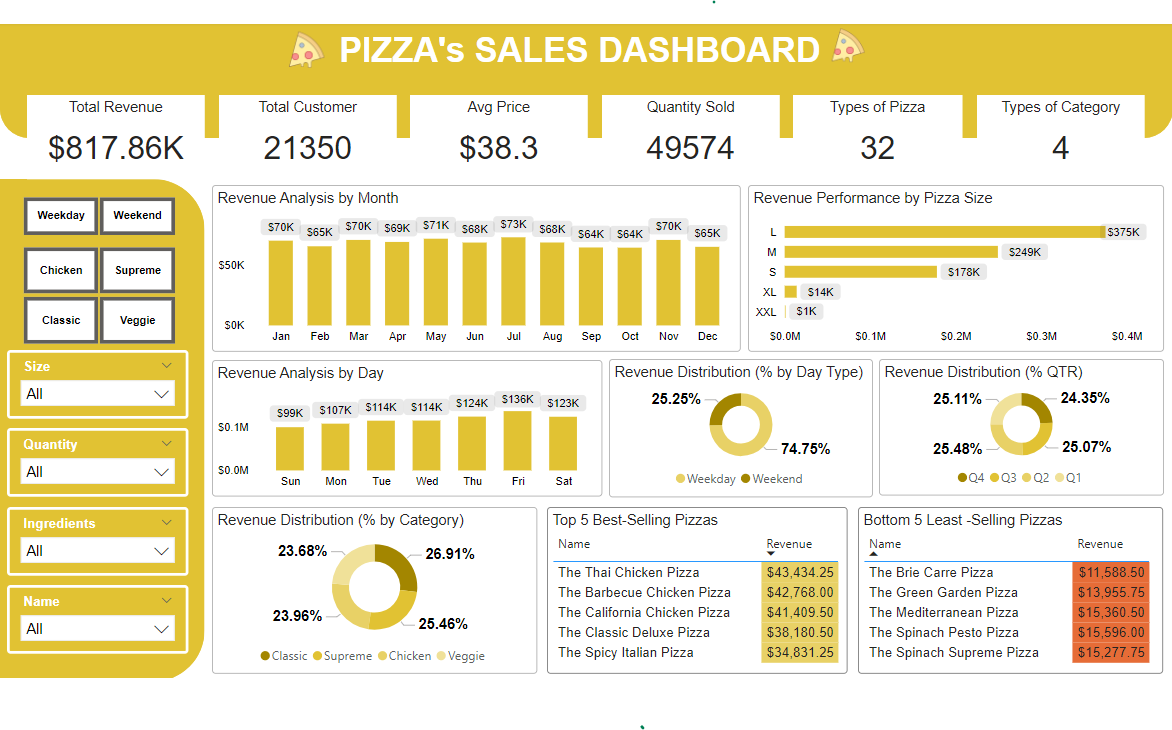

The page's visual inventory and layout, read from the dashboard file:
{"tool":"powerbi","page":{"name":"Page 1","canvas":[1280,720],"ordinal":0},"visuals":[{"type":"shape","box":[0,171.6,223.2,548.4],"z":0},{"type":"shape","box":[0,0,1280,126.6],"z":1000},{"type":"image","box":[891.5,0,67.7,50.2],"z":2000},{"type":"card","title":"Total Revenue","fields":{"Values":["Measures Table.Total Price"]},"box":[29.7,80,193.5,91.6],"z":3000},{"type":"actionButton","title":"PIZZA''s SALES DASHBOARD","box":[360.1,9.8,545.6,40.4],"z":4000},{"type":"card","title":"Total Customer","fields":{"Values":["Measures Table.Total Customers"]},"box":[238.7,80,193.5,91.6],"z":5000},{"type":"card","title":"Avg Price","fields":{"Values":["Measures Table.AVG Price"]},"box":[447.7,80,193.5,91.6],"z":6000},{"type":"card","title":"Quantity Sold","fields":{"Values":["Measures Table.Total Quantity Sold"]},"box":[656.8,80,193.5,91.6],"z":7000},{"type":"card","title":"Types of Pizza","fields":{"Values":["Count(pizzas.pizza_type_id)"]},"box":[865.8,80,184.5,91.6],"z":8000},{"type":"card","title":"Types of Category","fields":{"Values":["Count(pizza_types.category)"]},"box":[1065.8,80,183.2,91.6],"z":9000},{"type":"slicer","fields":{"Values":["orders.Day Type"]},"box":[0,184.4,215,54.6],"z":10000},{"type":"slicer","fields":{"Values":["pizza_types.category"]},"box":[0,239,215,118.9],"z":11000},{"type":"slicer","fields":{"Values":["pizzas.size"]},"box":[7.6,357.9,197.5,75.3],"z":12000},{"type":"slicer","fields":{"Values":["pizza_types.name"]},"box":[7.6,614.4,197.5,75.3],"z":13000},{"type":"slicer","fields":{"Values":["pizza_types.ingredients"]},"box":[7.6,528.9,197.5,75.3],"z":14000},{"type":"slicer","fields":{"Values":["order_details.quantity"]},"box":[7.6,443.4,197.5,75.3],"z":15000},{"type":"image","box":[301.2,3.3,67.7,53.5],"z":16000},{"type":"columnChart","title":"Revenue Analysis by Month","fields":{"Category":["orders.Month"],"Y":["Measures Table.Total Price"]},"box":[231.3,177.9,577.3,182.2],"z":16001},{"type":"columnChart","title":"Revenue Analysis by Day","fields":{"Category":["orders.day"],"Y":["Measures Table.Total Price"]},"box":[231.3,368.8,425.6,149.5],"z":16002},{"type":"donutChart","title":"Revenue Distribution (% by Category)","fields":{"Category":["pizza_types.category"],"Y":["Measures Table.Total Price"]},"box":[231,529,354.8,181.9],"z":16003},{"type":"donutChart","title":"Revenue Distribution (% by Day Type)","fields":{"Y":["Measures Table.Total Price"],"Category":["orders.Day Type"]},"box":[664.6,367.7,288.1,150.6],"z":16004},{"type":"tableEx","title":"Top 5 Best-Selling Pizzas","fields":{"Values":["pizza_types.name","Measures Table.Total Price"]},"box":[597.4,529,327.7,181.9],"z":16005},{"type":"barChart","title":"Revenue Performance by Pizza Size","fields":{"Category":["pizzas.size"],"Y":["Measures Table.Total Price"]},"box":[816.2,177.9,453.9,182.2],"z":16006},{"type":"tableEx","title":"Bottom 5 Least -Selling Pizzas","fields":{"Values":["pizza_types.name","Measures Table.Total Price"]},"box":[936.8,529,332.9,181.9],"z":16007},{"type":"donutChart","title":"Revenue Distribution (% QTR)","fields":{"Y":["Measures Table.Total Price"],"Category":["orders.QTR"]},"box":[959.2,367.7,311,149.5],"z":16008}]}

Visuals, with their boxes on the page's 1280x720 design canvas (x1, y1, x2, y2). These are canvas units, not pixel positions in the 1172x730 screenshot, which may show the page scaled, cropped or inside an application window:
shape: (0, 172, 223, 720)
shape: (0, 0, 1280, 127)
image: (892, 0, 959, 50)
"Total Revenue" card: (30, 80, 223, 172)
"PIZZA''s SALES DASHBOARD" actionButton: (360, 10, 906, 50)
"Total Customer" card: (239, 80, 432, 172)
"Avg Price" card: (448, 80, 641, 172)
"Quantity Sold" card: (657, 80, 850, 172)
"Types of Pizza" card: (866, 80, 1050, 172)
"Types of Category" card: (1066, 80, 1249, 172)
slicer - orders.Day Type: (0, 184, 215, 239)
slicer - pizza_types.category: (0, 239, 215, 358)
slicer - pizzas.size: (8, 358, 205, 433)
slicer - pizza_types.name: (8, 614, 205, 690)
slicer - pizza_types.ingredients: (8, 529, 205, 604)
slicer - order_details.quantity: (8, 443, 205, 519)
image: (301, 3, 369, 57)
"Revenue Analysis by Month" columnChart: (231, 178, 809, 360)
"Revenue Analysis by Day" columnChart: (231, 369, 657, 518)
"Revenue Distribution (% by Category)" donutChart: (231, 529, 586, 711)
"Revenue Distribution (% by Day Type)" donutChart: (665, 368, 953, 518)
"Top 5 Best-Selling Pizzas" tableEx: (597, 529, 925, 711)
"Revenue Performance by Pizza Size" barChart: (816, 178, 1270, 360)
"Bottom 5 Least -Selling Pizzas" tableEx: (937, 529, 1270, 711)
"Revenue Distribution (% QTR)" donutChart: (959, 368, 1270, 517)
